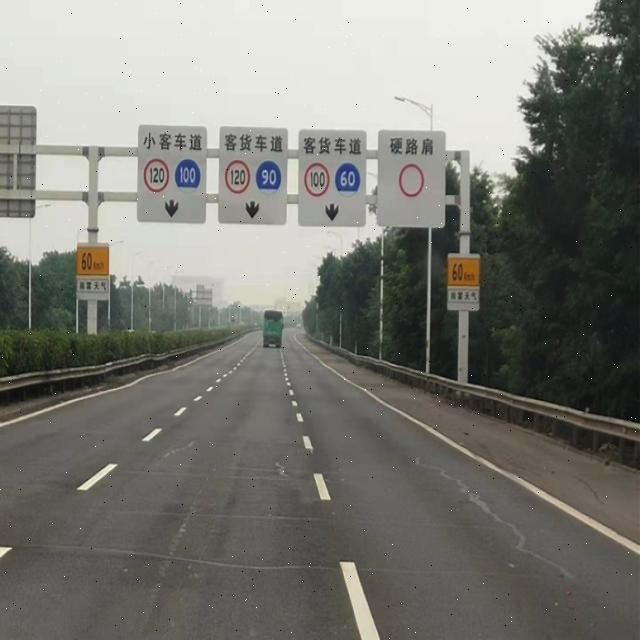speed limit 100: (175, 157, 201, 195), (303, 164, 329, 198)
speed limit 120: (143, 156, 170, 193), (224, 158, 251, 194)
speed limit 60: (335, 163, 361, 200)
speed limit 90: (255, 158, 281, 199)
